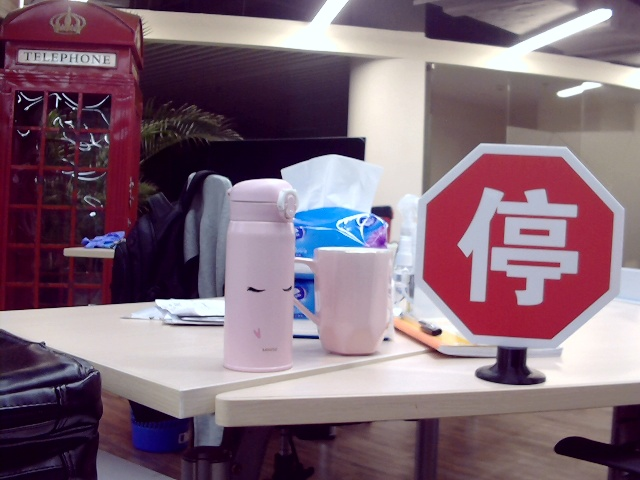stop: (462, 183, 582, 304)
